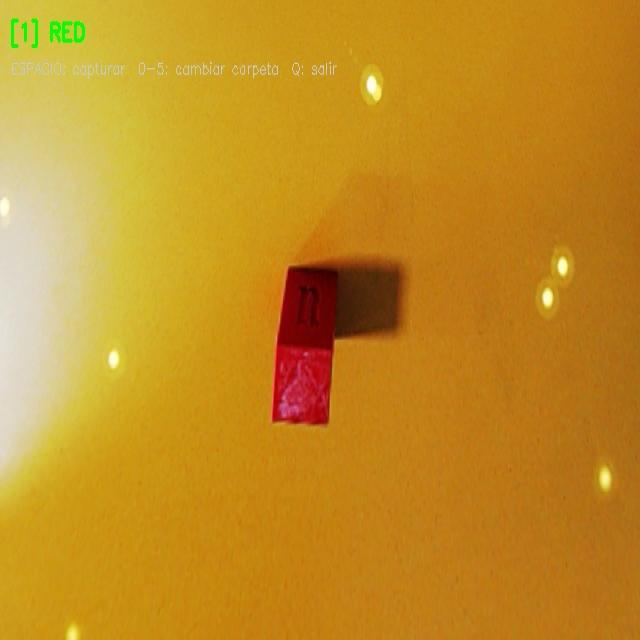red: (272, 268, 336, 420)
